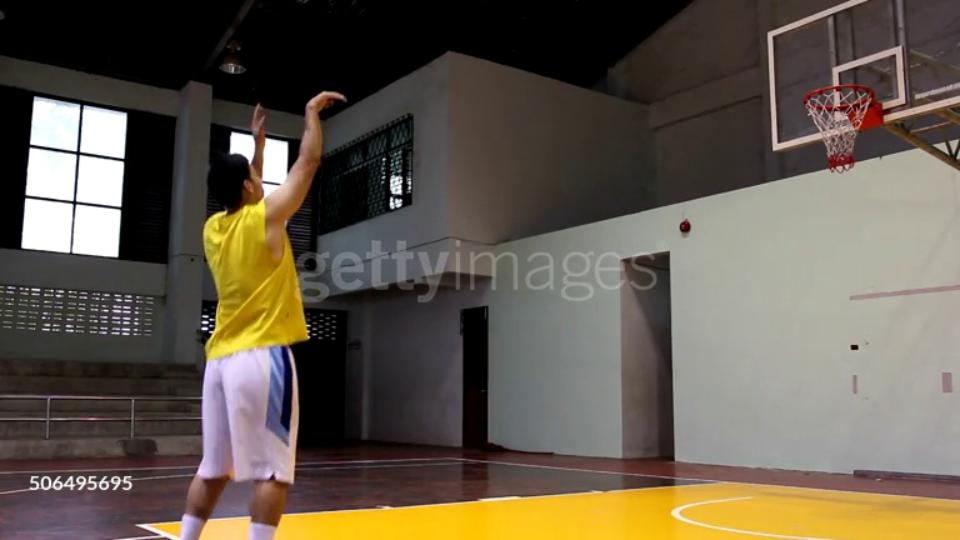hoop: (801, 85, 875, 116)
